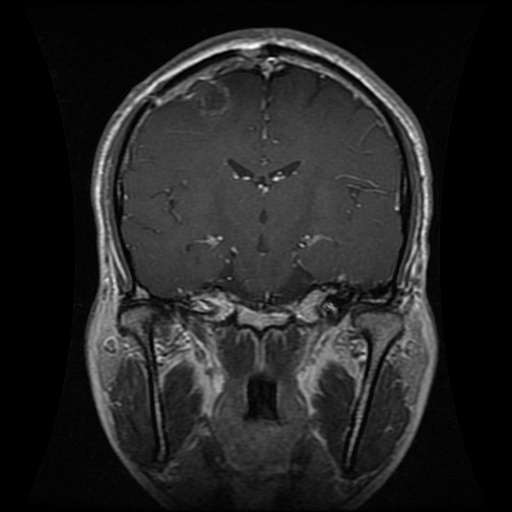glioma: (186, 74, 235, 119)
